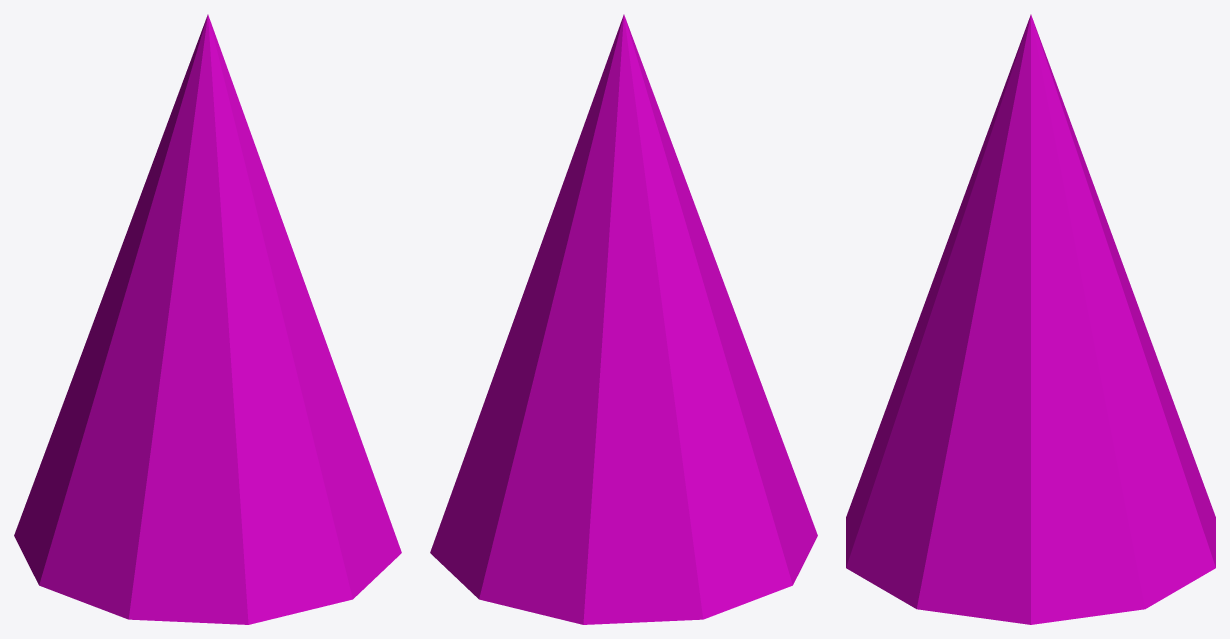
Rendered from SM_DEBUGCONE.fbx.
3 renders of one model, left to right at view 1: azimuth 30°, elevation 25°; view 2: azimuth 150°, elevation 25°; view 3: azimuth 270°, elevation 25°, orthographic.
Visible parts, largest first — view 1: pCone1; view 2: pCone1; view 3: pCone1.
Part boxes in pixels (x1=…): pCone1: x1=14, y1=14, x2=401, y2=624; pCone1: x1=430, y1=14, x2=817, y2=624; pCone1: x1=846, y1=14, x2=1215, y2=624.
Bounding box in the file's own units: 100 × 150 × 95.11.
